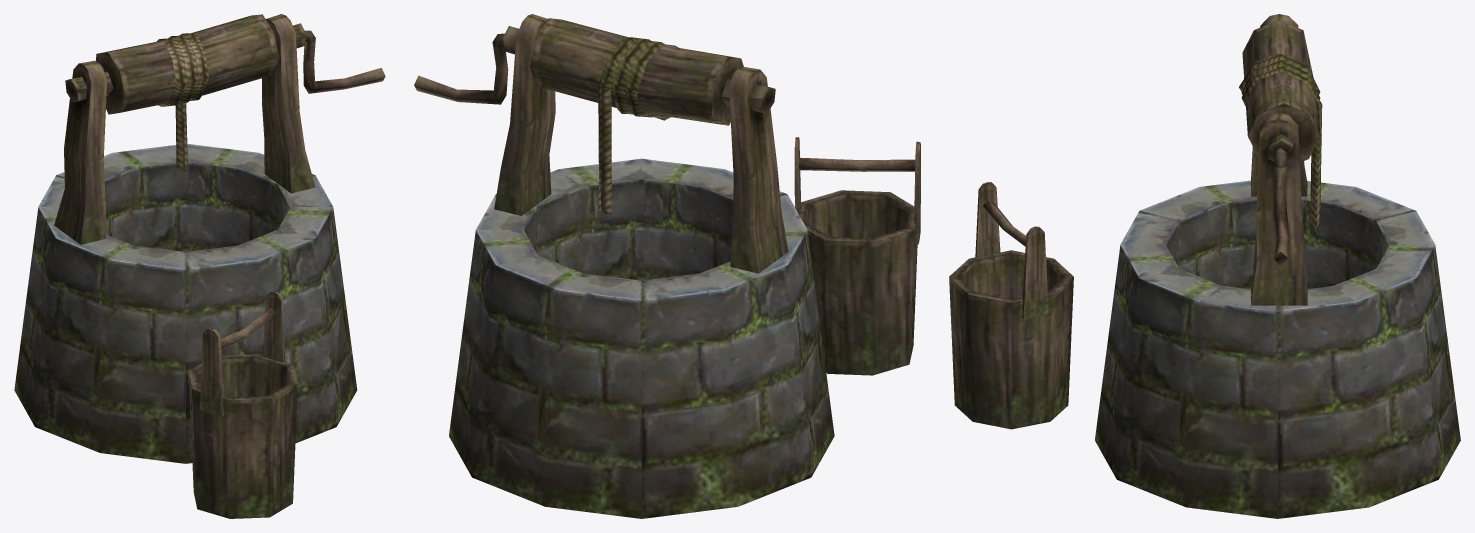
Rendered from wlf_shuijin01_w.FBX.
3 views of the same model, side by side, from view 1: azimuth 30°, elevation 25°; view 2: azimuth 150°, elevation 25°; view 3: azimuth 270°, elevation 25° (orthographic). The views are drawn at different scales.
Visible parts, largest first — view 1: wlf_shuijin01_w; view 2: wlf_shuijin01_w; view 3: wlf_shuijin01_w.
Boxes of the visible parts, x1,y1,x2,y2 form: wlf_shuijin01_w: (14,14,385,518); wlf_shuijin01_w: (414,14,920,518); wlf_shuijin01_w: (949,14,1460,518).
Size of the model in its own units: 26.92 by 26.24 by 32.
